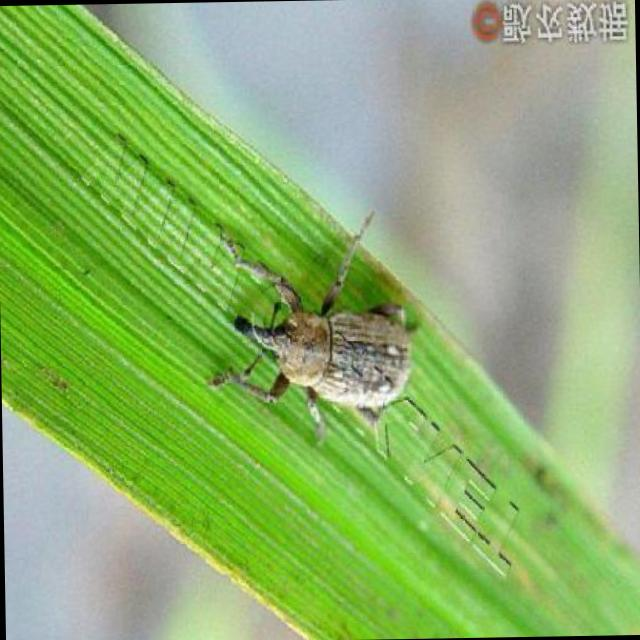rice-bug: (217, 236, 416, 438)
